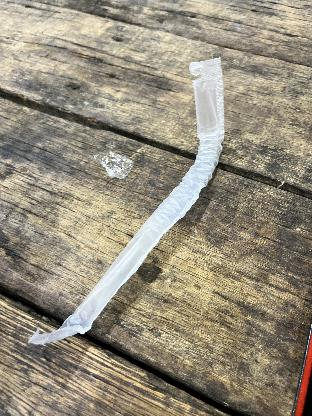Others: (22, 52, 224, 342)
